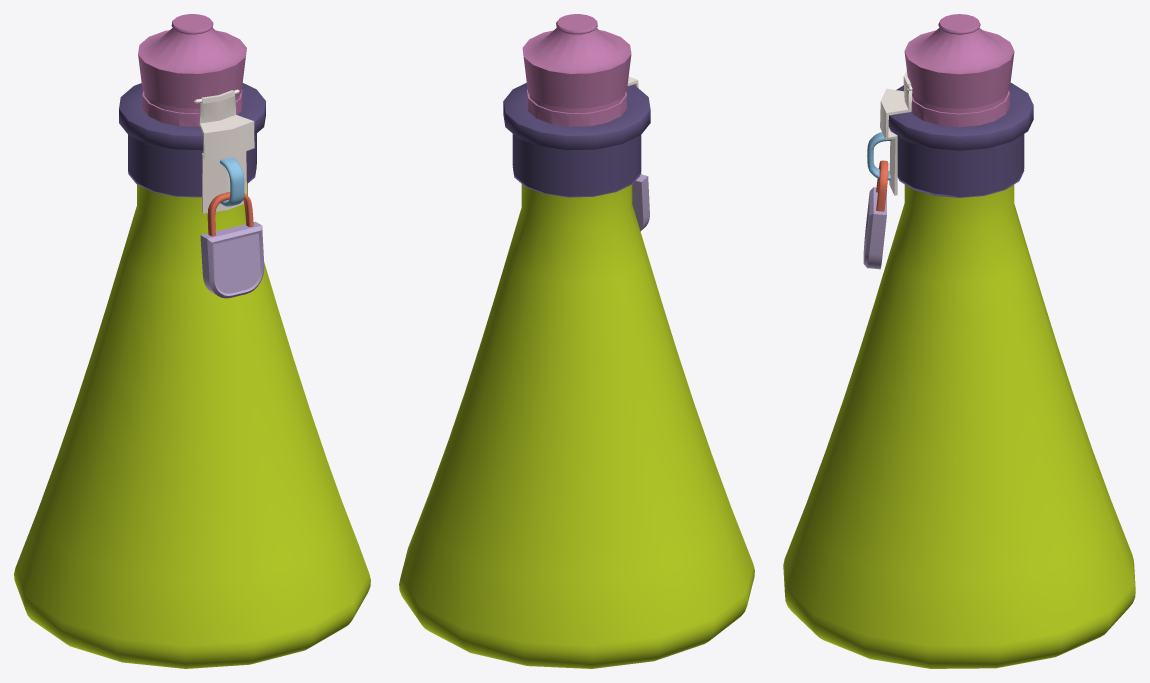
The picture shows the model from 3 angles, left to right: view 1: azimuth 30°, elevation 25°; view 2: azimuth 150°, elevation 25°; view 3: azimuth 270°, elevation 25°; orthographic projection.
Parts seen in each view (by area): view 1: Line001_Glass_0, Line002_Cork_0, Line001.001_Silver_0, split_parent_2, split_parent_3, Cube.001_Silver_0, split_parent_5; view 2: Line001_Glass_0, Line001.001_Silver_0, Line002_Cork_0, split_parent_3; view 3: Line001_Glass_0, Line001.001_Silver_0, Line002_Cork_0, split_parent_2, split_parent_3.
Part boxes in pixels (left/top/right/bottom): Line001_Glass_0: left=14, top=184, right=370, bottom=668; Line002_Cork_0: left=138, top=14, right=246, bottom=126; Line001.001_Silver_0: left=119, top=83, right=265, bottom=197; split_parent_2: left=194, top=89, right=254, bottom=213; split_parent_3: left=200, top=221, right=264, bottom=298; Cube.001_Silver_0: left=220, top=157, right=244, bottom=206; split_parent_5: left=207, top=192, right=253, bottom=236; Line001_Glass_0: left=399, top=184, right=754, bottom=668; Line001.001_Silver_0: left=503, top=83, right=650, bottom=197; Line002_Cork_0: left=522, top=14, right=631, bottom=126; split_parent_3: left=632, top=174, right=649, bottom=231; Line001_Glass_0: left=783, top=184, right=1135, bottom=668; Line001.001_Silver_0: left=888, top=83, right=1033, bottom=197; Line002_Cork_0: left=904, top=14, right=1014, bottom=127; split_parent_2: left=880, top=70, right=912, bottom=195; split_parent_3: left=863, top=187, right=886, bottom=269.
Bounding box in the file's own units: 0.5501 × 1 × 0.5501.
